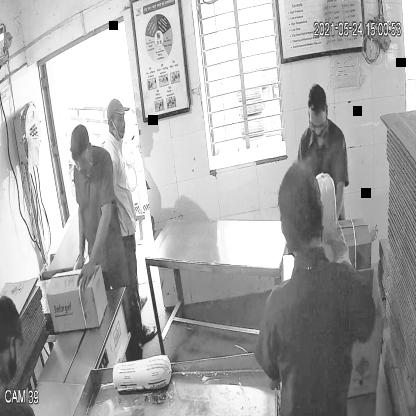goggles: (71, 150, 91, 173)
